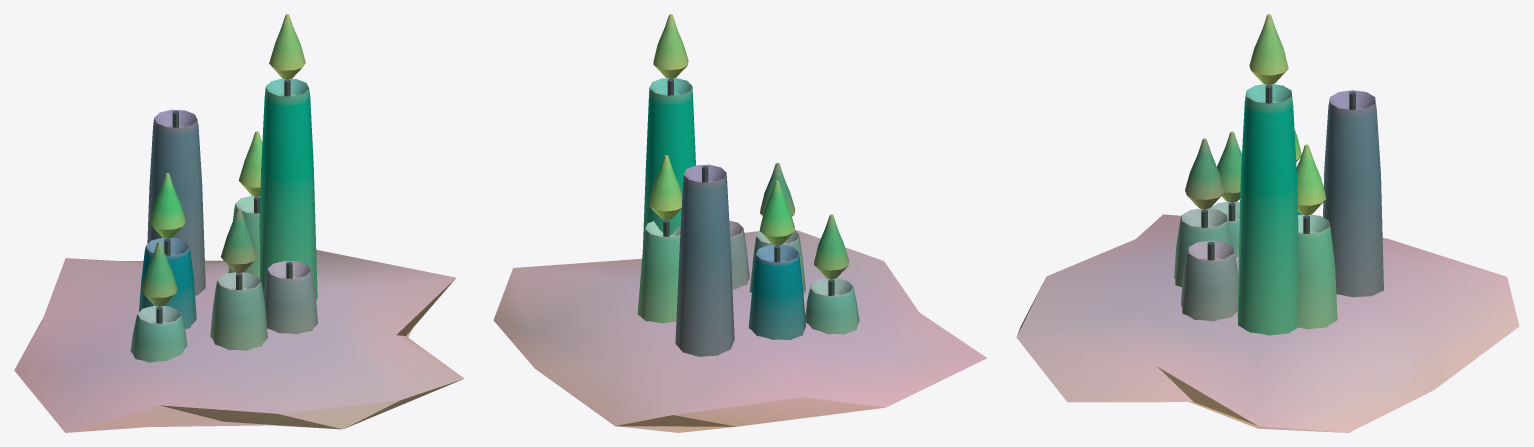
File: candle_cluster.glb
3 renders of one model, left to right at view 1: azimuth 30°, elevation 25°; view 2: azimuth 150°, elevation 25°; view 3: azimuth 270°, elevation 25°, orthographic. The views are drawn at different scales.
Visible parts, largest first — view 1: drip_base, votive, votive.002, votive.005, votive.006, votive.004, votive.003, cluster_flame.002, cluster_flame.003, cluster_flame, cluster_flame.004, cluster_flame.001 (+2 smaller); view 2: drip_base, votive.002, votive, votive.003, votive.001, votive.004, cluster_flame.002, cluster_flame, cluster_flame.003, cluster_flame.001, votive.006, votive.005 (+2 smaller); view 3: drip_base, votive, votive.002, votive.001, votive.006, votive.005, cluster_flame.004, cluster_flame, cluster_flame.001, cluster_flame.003, cluster_wicks, votive.004.
Part boxes in pixels (bbox=[...]): drip_base: bbox=[14, 250, 464, 432]; votive: bbox=[259, 78, 317, 299]; votive.002: bbox=[147, 109, 205, 295]; votive.005: bbox=[210, 272, 267, 350]; votive.006: bbox=[263, 261, 318, 334]; votive.004: bbox=[130, 305, 187, 362]; votive.003: bbox=[139, 237, 196, 329]; cluster_flame.002: bbox=[149, 173, 185, 238]; cluster_flame.003: bbox=[141, 241, 177, 306]; cluster_flame: bbox=[269, 14, 305, 79]; cluster_flame.004: bbox=[221, 207, 257, 272]; cluster_flame.001: bbox=[238, 131, 262, 196]; drip_base: bbox=[493, 229, 987, 432]; votive.002: bbox=[675, 164, 734, 356]; votive: bbox=[642, 78, 695, 250]; votive.003: bbox=[748, 244, 805, 340]; votive.001: bbox=[637, 221, 680, 323]; votive.004: bbox=[805, 278, 859, 334]; cluster_flame.002: bbox=[759, 180, 794, 245]; cluster_flame: bbox=[653, 14, 688, 78]; cluster_flame.003: bbox=[814, 214, 848, 278]; cluster_flame.001: bbox=[649, 155, 682, 219]; votive.006: bbox=[729, 220, 749, 289]; votive.005: bbox=[749, 230, 805, 295]; drip_base: bbox=[1016, 214, 1519, 432]; votive: bbox=[1237, 84, 1298, 335]; votive.002: bbox=[1323, 90, 1383, 297]; votive.001: bbox=[1297, 214, 1337, 329]; votive.006: bbox=[1181, 240, 1238, 321]; votive.005: bbox=[1174, 208, 1232, 287]; cluster_flame.004: bbox=[1185, 138, 1224, 209]; cluster_flame: bbox=[1249, 14, 1288, 84]; cluster_flame.001: bbox=[1296, 144, 1326, 215]; cluster_flame.003: bbox=[1217, 131, 1241, 202]; cluster_wicks: bbox=[1201, 85, 1355, 260]; votive.004: bbox=[1209, 202, 1239, 257].
Bounding box in the file's own units: 0.5513 × 0.383 × 0.5093.
